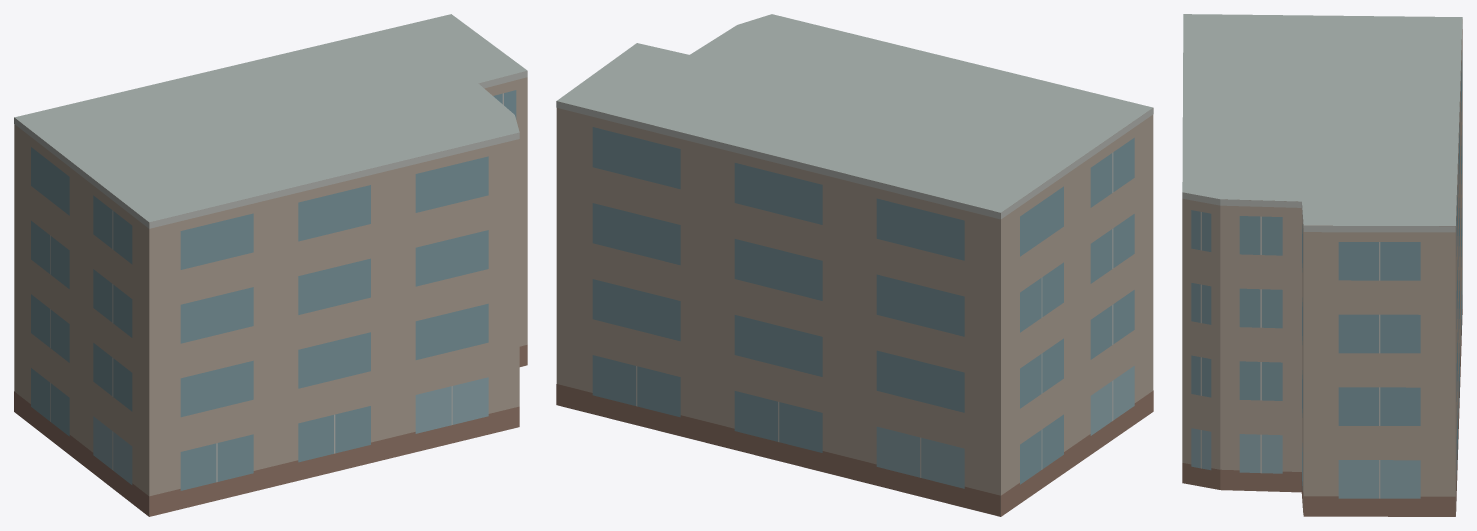
Rendered from survey-upis-32589572.glb.
3 views of the same model, side by side, from view 1: azimuth 30°, elevation 25°; view 2: azimuth 150°, elevation 25°; view 3: azimuth 270°, elevation 25° (orthographic). The views are drawn at different scales.
Visible parts, largest first — view 1: survey-upis-32589572.tmp; view 2: survey-upis-32589572.tmp; view 3: survey-upis-32589572.tmp.
Part boxes in pixels (x1=…): survey-upis-32589572.tmp: x1=14, y1=14, x2=527, y2=516; survey-upis-32589572.tmp: x1=556, y1=14, x2=1153, y2=516; survey-upis-32589572.tmp: x1=1182, y1=14, x2=1462, y2=516.
Size of the model in its own units: 17.37 by 11.1 by 9.7.
